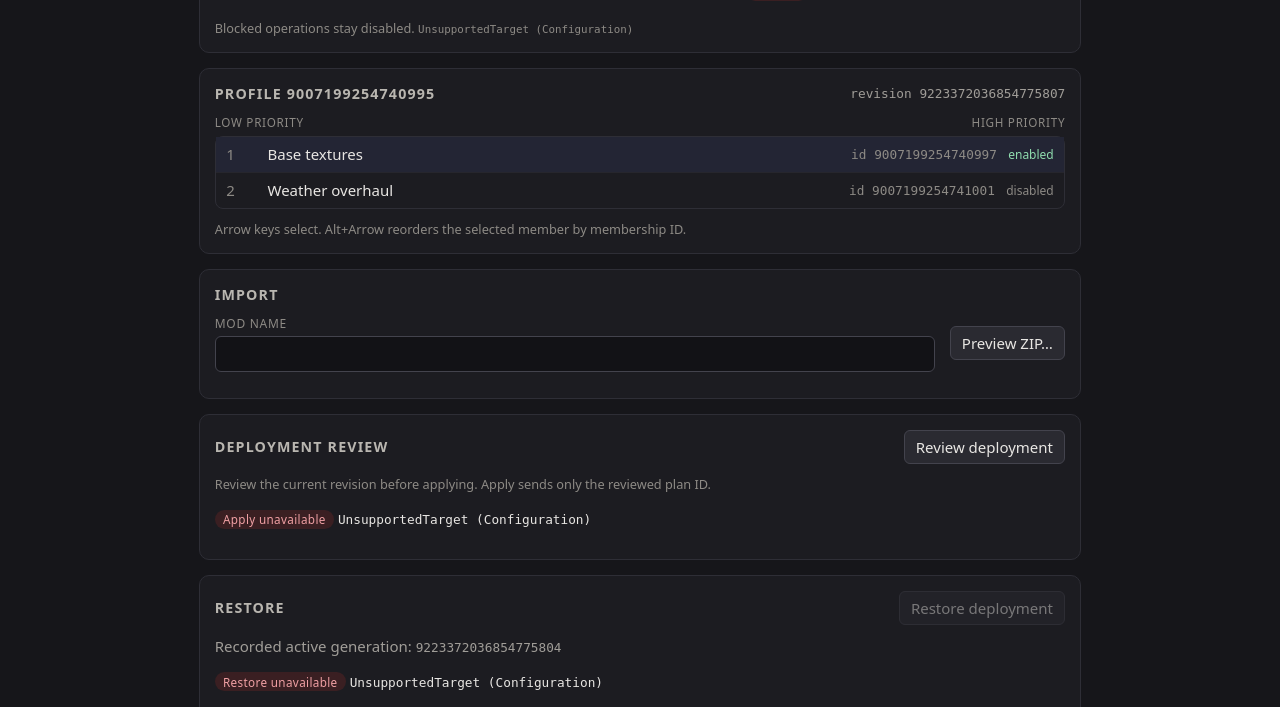
Test case: workspace shell › drops a prepared import when a reorder changes the profile revision
The width and height of the screenshot is (1280, 707).
(page scrolled)
Expected: the text "revision 9223372036854775807" is shown, [850, 86, 1065, 100]
Type "Textures" into the field labelled "Mod name" at (575, 354), box [215, 336, 935, 372]
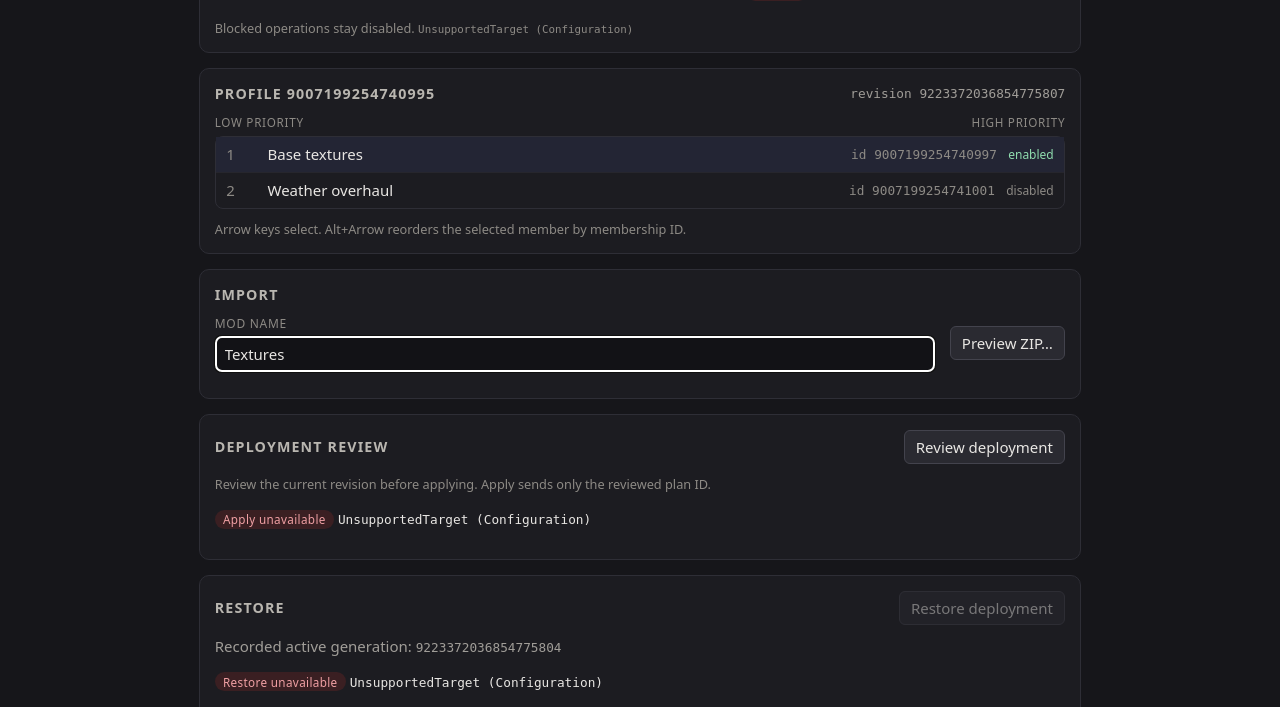
Click the button "Preview ZIP…" at (1007, 343), box [950, 326, 1065, 360]
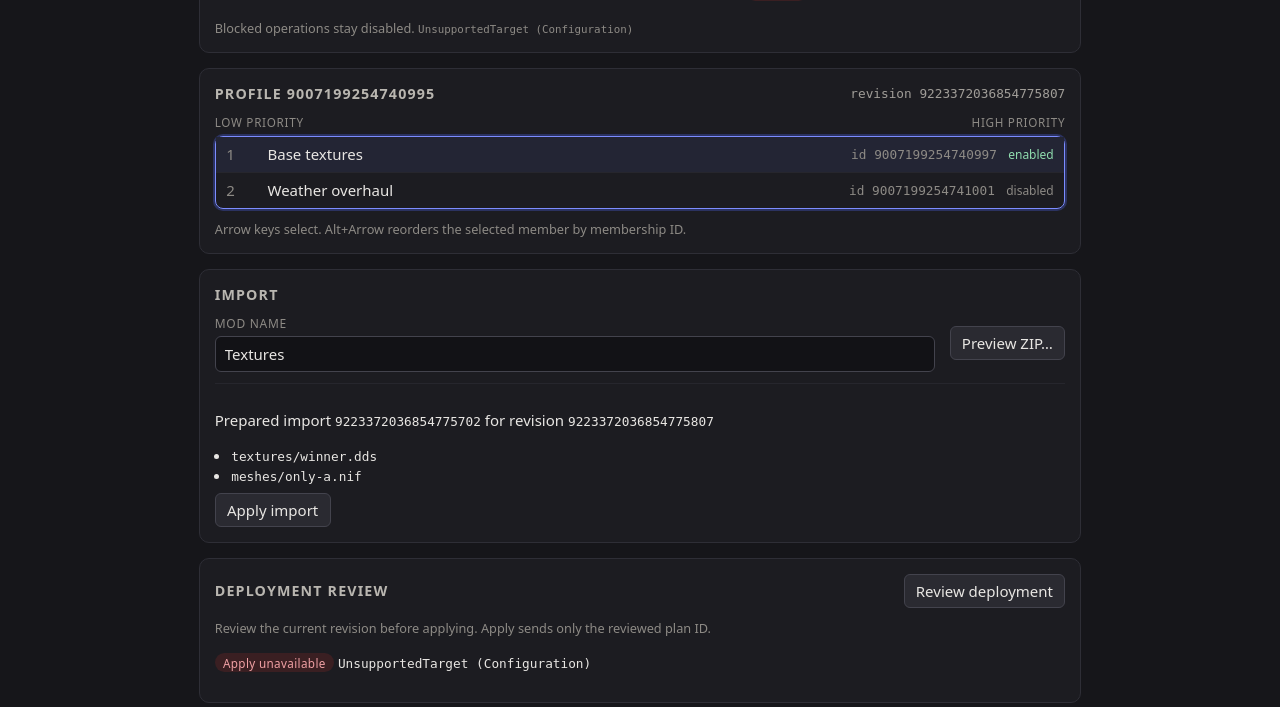
Result: the button "Apply import" is shown at [215, 492, 331, 526]
Type keys "{Alt>}{ArrowDown}{/Alt}"
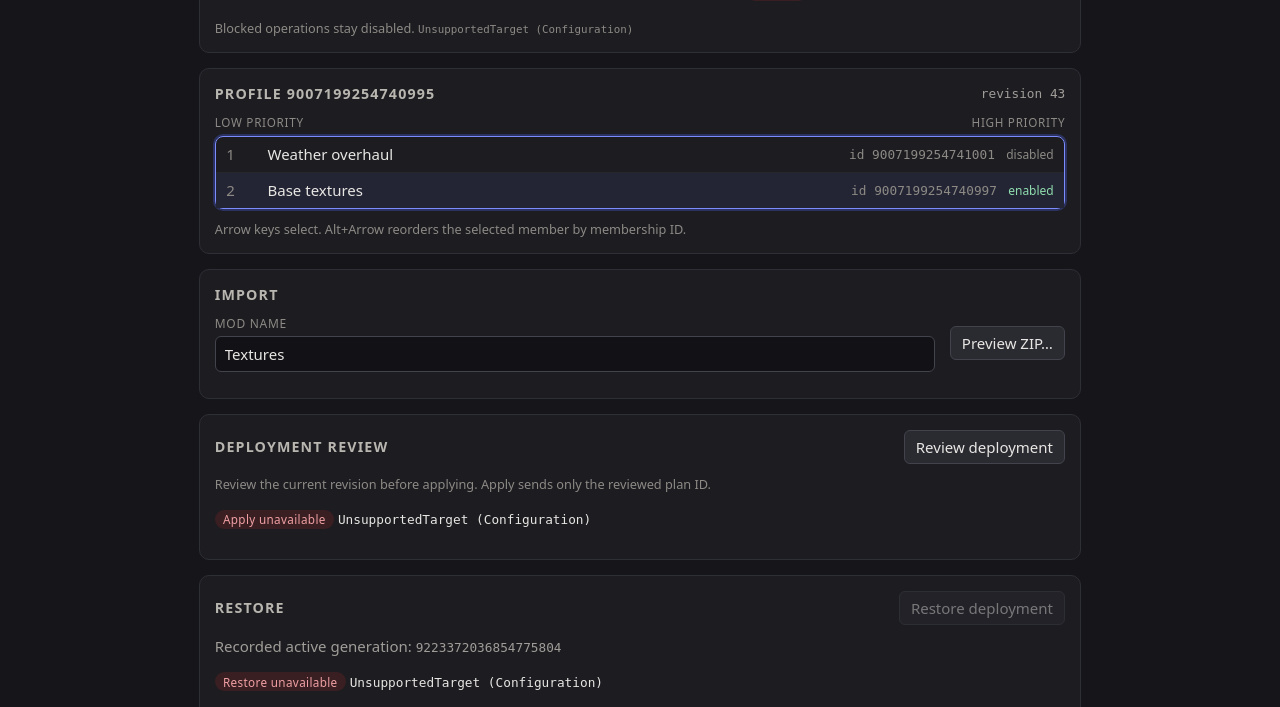
Result: the text "revision 43" is shown at [981, 86, 1065, 100]
Result: the button "Apply import" is gone
